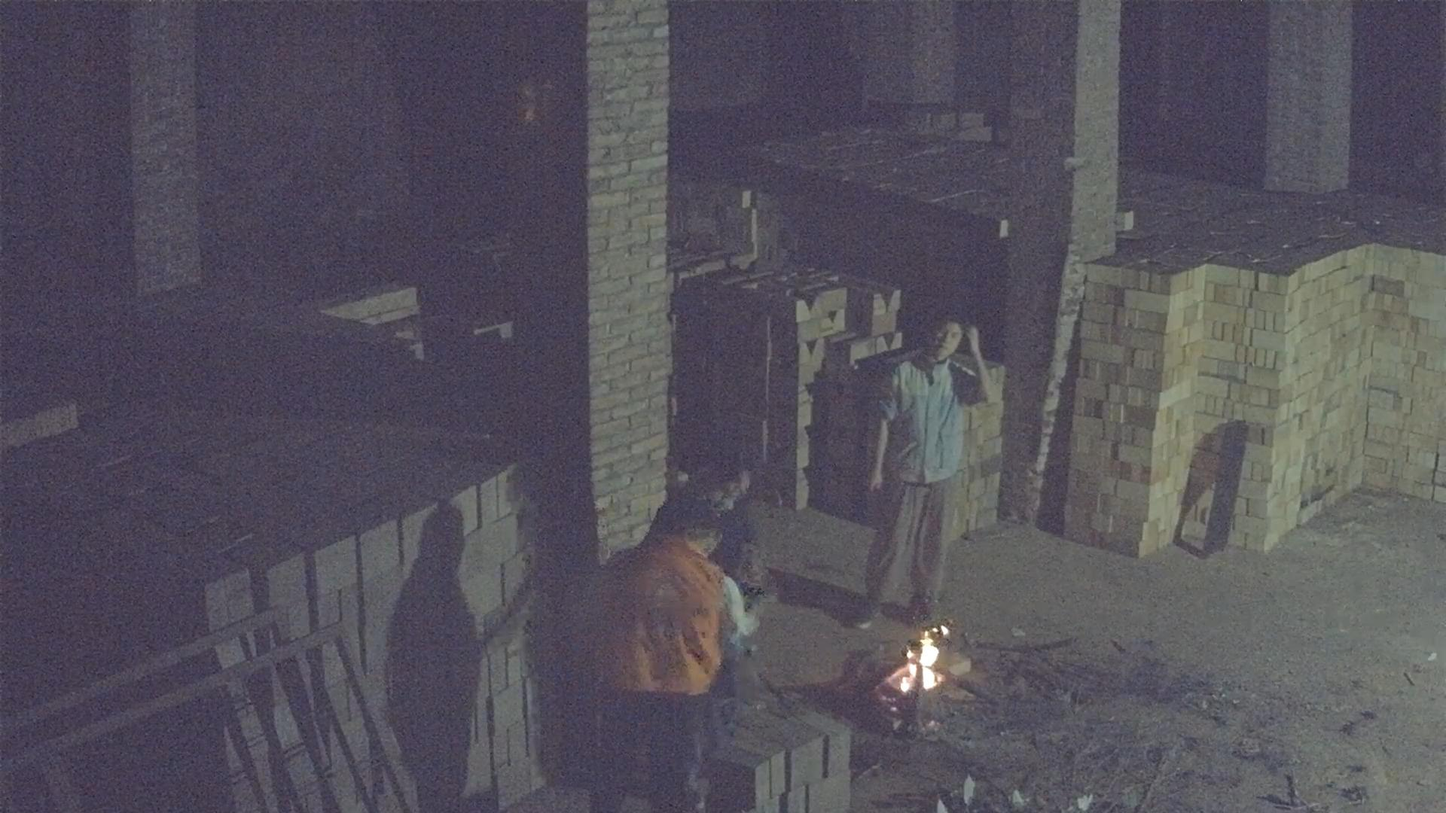fire: (893, 627, 950, 695)
